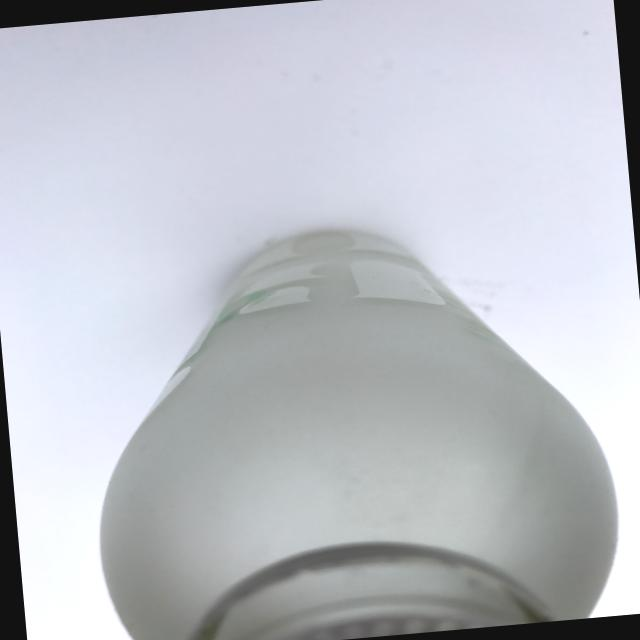Glass: (64, 188, 631, 640)
